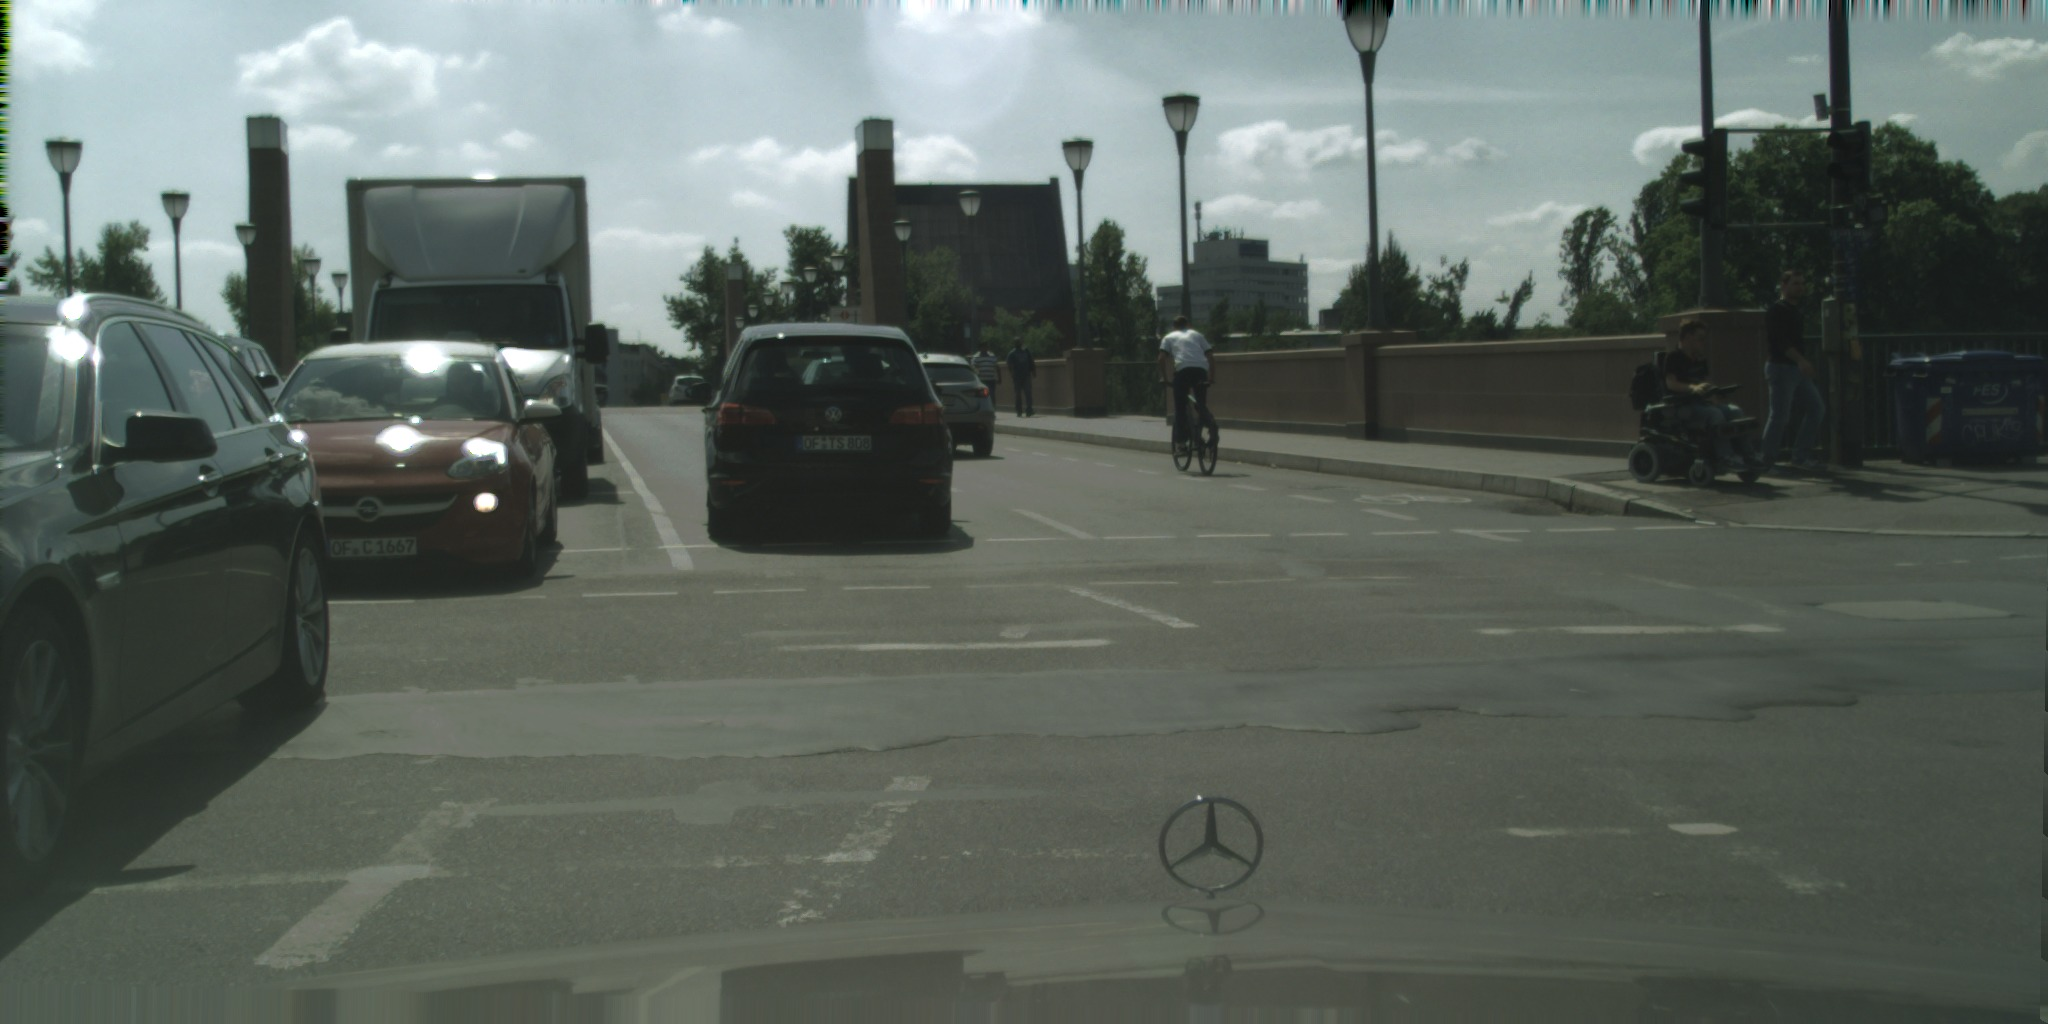bicycle: (1162, 380, 1220, 477)
car: (0, 291, 330, 882), (243, 340, 564, 586), (682, 321, 954, 543), (871, 352, 997, 460), (183, 333, 290, 449), (668, 375, 709, 406)
person: (1757, 268, 1828, 479), (961, 340, 1002, 420), (1005, 337, 1037, 418)
rider: (1157, 314, 1217, 458), (1626, 318, 1714, 413), (1714, 432, 1767, 473), (1691, 395, 1745, 424), (1679, 405, 1691, 418), (1662, 407, 1674, 419)
truck: (328, 173, 610, 503)
